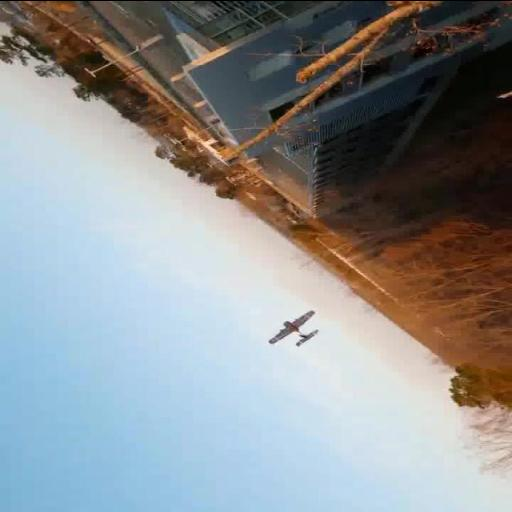uav: (258, 306, 330, 347)
